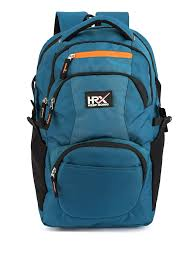backpack: (27, 10, 171, 228)
